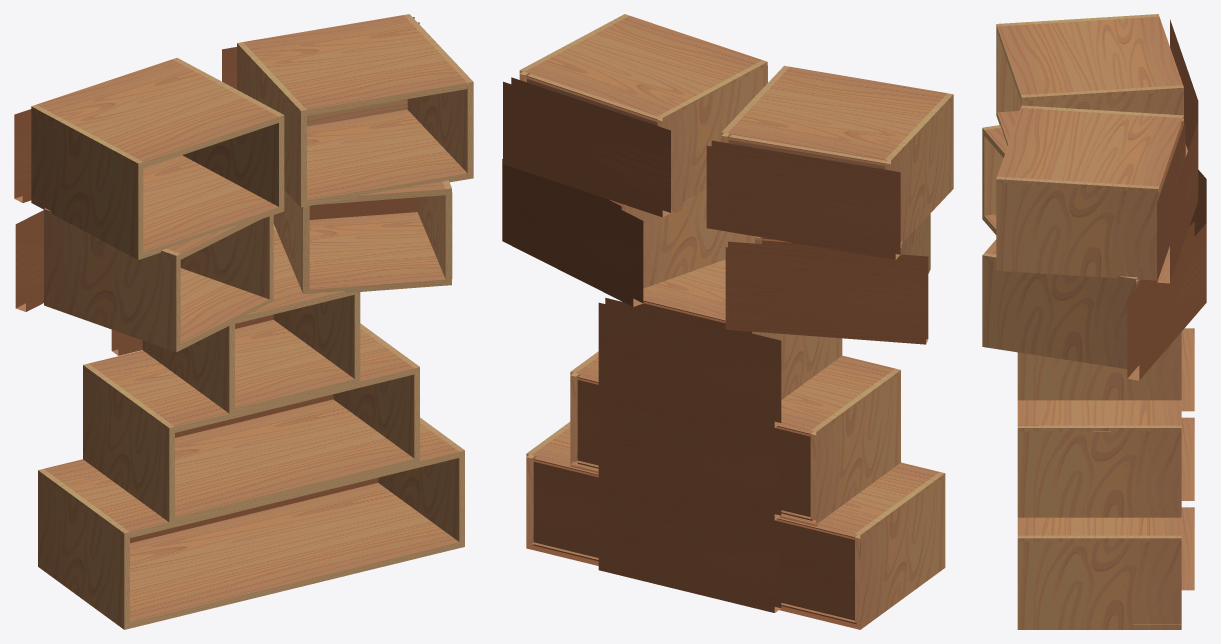
Rendered from layout_wide_5s_in.fbx.
3 renders of one model, left to right at view 1: azimuth 30°, elevation 25°; view 2: azimuth 150°, elevation 25°; view 3: azimuth 270°, elevation 25°, orthographic. The views are drawn at different scales.
Parts seen in each view (by area): view 1: Shelf-BM-00, Shelf-BM-00 1, Shelf-TM-00 6, Shelf-TM-00 5, Shelf-CL-01 3, Shelf-BM-00 6, Shelf-CL-01 5, Shelf-BM-00 4, Shelf-BM-00 5, Shelf-CL-01 1, Shelf-CL-01, Shelf-TM-00 1 (+28 smaller); view 2: Shelf-Back-00 (1) 3, Shelf-Back-00 (1) 5, Shelf-Back-00 (1) 1, Shelf-Back-00 (1), Shelf-Back-00 (1) 2, Shelf-Back-00 (1) 6, Shelf-Back-00, Shelf-TM-00 5, Shelf-TM-00 6, Shelf-Back-00 (1) 4, Shelf-CL-01 1, Shelf-CL-01 (+19 smaller); view 3: Shelf-CR-01, Shelf-CR-01 1, Shelf-CR-01 6, Shelf-CR-01 4, Shelf-TM-00 5, Shelf-TM-00 6, Shelf-Back-00 (1) 4, Shelf-CR-01 2, Shelf-TM-00 1, Shelf-Back-00 (1) 6, Shelf-TM-00, Shelf-CR-01 5 (+20 smaller).
Boxes of the visible parts, x1,y1,x2,y2 form: Shelf-BM-00: (130, 483, 459, 628); Shelf-BM-00 1: (175, 399, 414, 520); Shelf-TM-00 6: (243, 15, 467, 115); Shelf-TM-00 5: (36, 59, 278, 167); Shelf-CL-01 3: (44, 212, 180, 346); Shelf-BM-00 6: (307, 109, 467, 206); Shelf-CL-01 5: (31, 110, 143, 253); Shelf-BM-00 4: (309, 212, 445, 293); Shelf-BM-00 5: (143, 155, 278, 258); Shelf-CL-01 1: (83, 369, 174, 518); Shelf-CL-01: (38, 474, 129, 623); Shelf-TM-00 1: (89, 329, 414, 432); Shelf-Back-00 (1) 3: (725, 241, 928, 344); Shelf-Back-00 (1) 5: (706, 140, 900, 259); Shelf-Back-00 (1) 1: (598, 390, 781, 520); Shelf-Back-00 (1): (598, 483, 781, 612); Shelf-Back-00 (1) 2: (598, 297, 781, 427); Shelf-Back-00 (1) 6: (503, 77, 670, 217); Shelf-Back-00: (533, 456, 860, 624); Shelf-TM-00 5: (727, 66, 946, 165); Shelf-TM-00 6: (525, 15, 762, 122); Shelf-Back-00 (1) 4: (502, 159, 643, 306); Shelf-CL-01 1: (810, 374, 900, 520); Shelf-CL-01: (855, 477, 945, 623); Shelf-CR-01: (1017, 541, 1181, 624); Shelf-CR-01 1: (1017, 431, 1181, 513); Shelf-CR-01 6: (996, 182, 1159, 274); Shelf-CR-01 4: (982, 258, 1138, 363); Shelf-TM-00 5: (997, 16, 1182, 99); Shelf-TM-00 6: (997, 108, 1182, 191); Shelf-Back-00 (1) 4: (1127, 221, 1206, 380); Shelf-CR-01 2: (1017, 332, 1181, 396); Shelf-TM-00 1: (1017, 400, 1181, 425); Shelf-Back-00 (1) 6: (1157, 122, 1198, 283); Shelf-TM-00: (1017, 517, 1181, 535); Shelf-CR-01 5: (1020, 91, 1183, 115).
Bounding box in the file's own units: 231 × 242 × 109.
